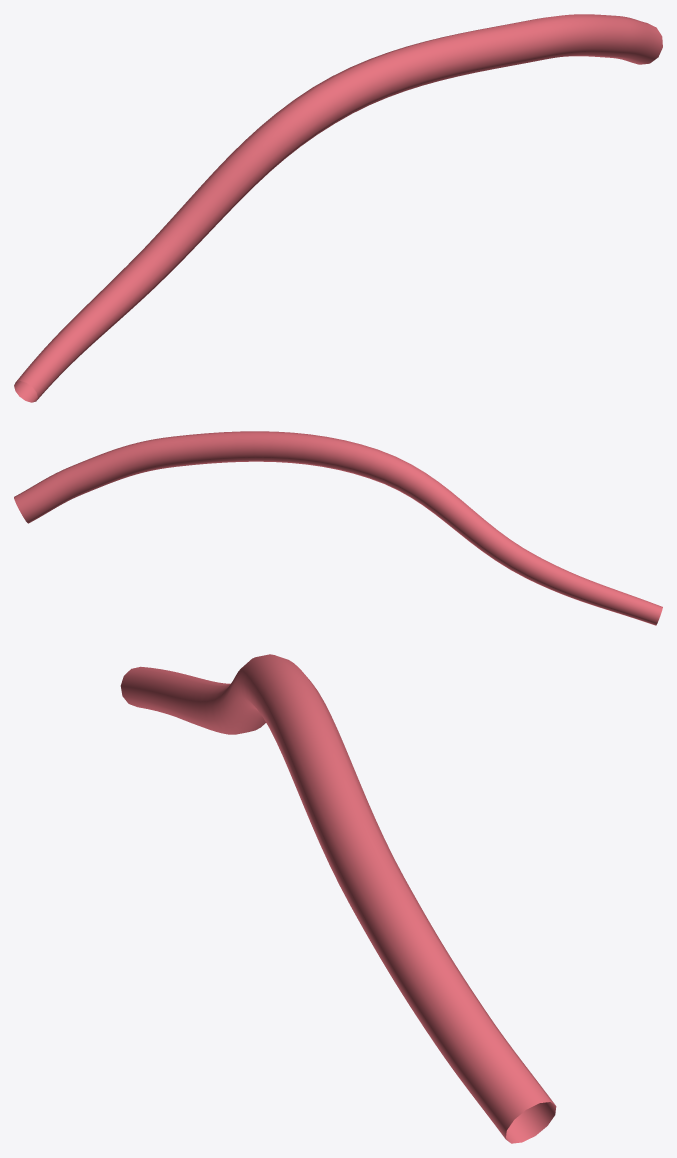
3 renders of one model, top to bottom at view 1: azimuth 30°, elevation 25°; view 2: azimuth 150°, elevation 25°; view 3: azimuth 270°, elevation 25°, orthographic. The views are drawn at different scales.
Visible parts, largest first — view 1: ZA_b45bb0b00233a996; view 2: ZA_b45bb0b00233a996; view 3: ZA_b45bb0b00233a996.
Part boxes in pixels (x1=…): ZA_b45bb0b00233a996: x1=14, y1=14, x2=662, y2=402; ZA_b45bb0b00233a996: x1=14, y1=431, x2=662, y2=625; ZA_b45bb0b00233a996: x1=120, y1=654, x2=556, y2=1143.
Size of the model in its own units: 0.0252 by 0.0063 by 0.00858.
